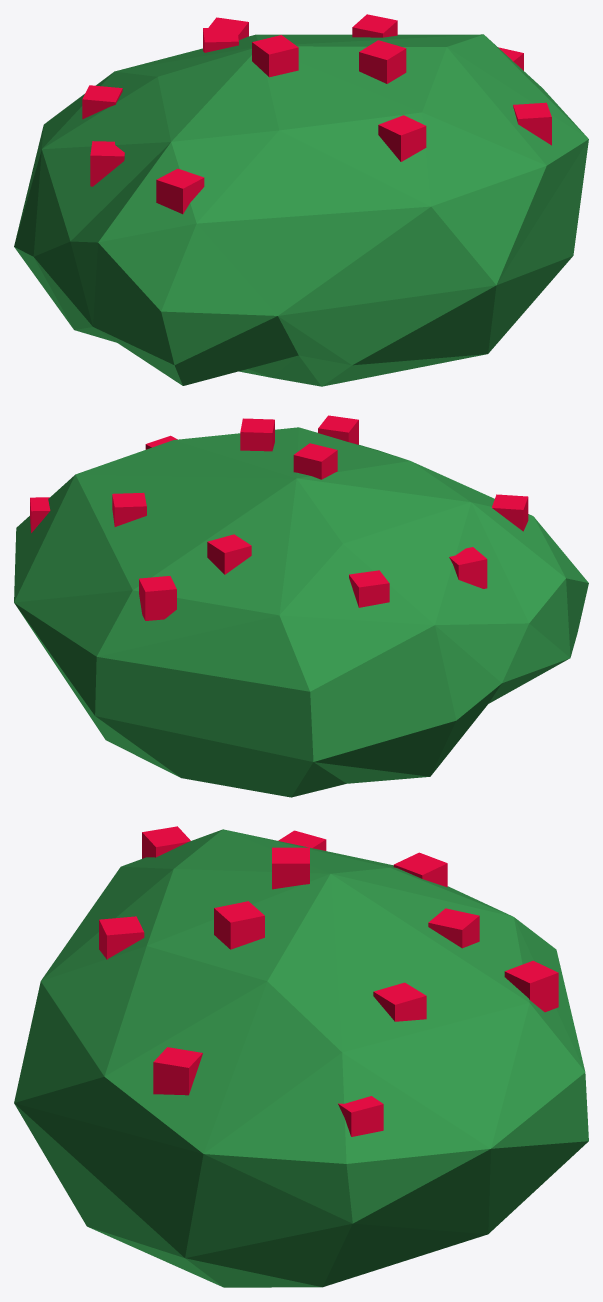
File: Berries0.fbx
The picture shows the model from 3 angles, top to bottom: view 1: azimuth 30°, elevation 25°; view 2: azimuth 150°, elevation 25°; view 3: azimuth 270°, elevation 25°; orthographic projection. The views are drawn at different scales.
Parts seen in each view (by area): view 1: Berries0; view 2: Berries0; view 3: Berries0.
Part boxes in pixels (left/top/right/bottom): Berries0: left=14, top=14, right=588, bottom=386; Berries0: left=14, top=415, right=588, bottom=797; Berries0: left=14, top=826, right=588, bottom=1287.
Size of the model in its own units: 351 by 216 by 301.
